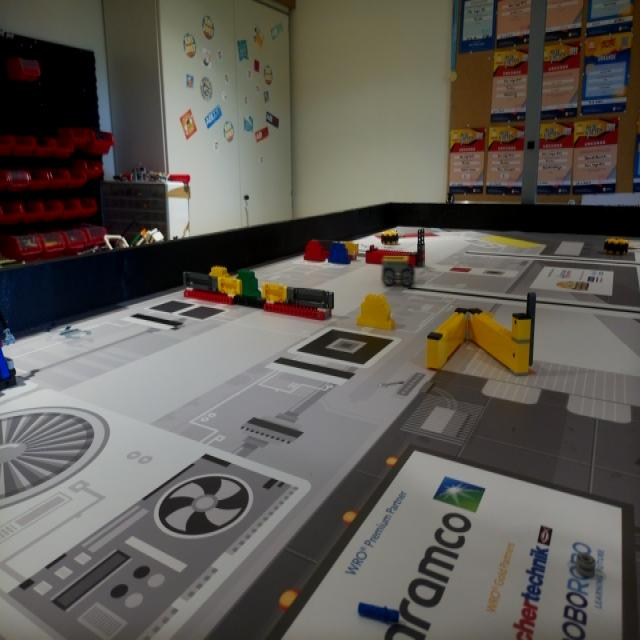blau: (327, 238, 351, 265)
gruen: (235, 262, 263, 305)
rot: (301, 238, 327, 264)
yellow: (354, 292, 397, 335), (207, 264, 232, 282)
